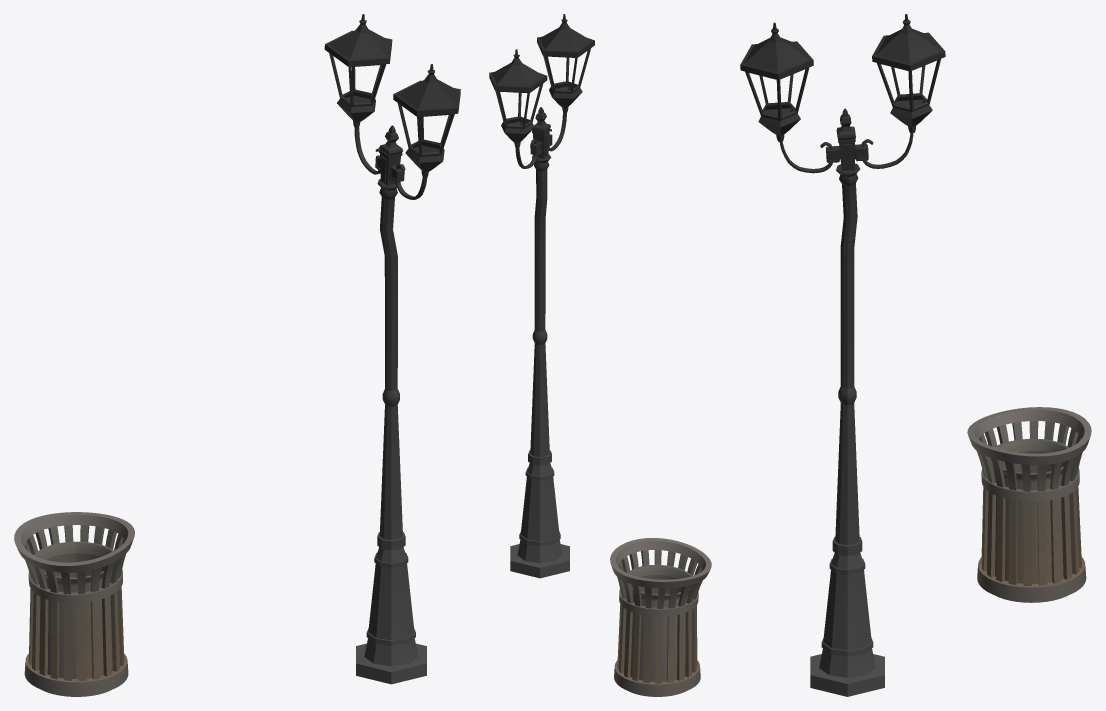
The model's file is Street_props.fbx.
3 renders of one model, left to right at view 1: azimuth 30°, elevation 25°; view 2: azimuth 150°, elevation 25°; view 3: azimuth 270°, elevation 25°, orthographic. The views are drawn at different scales.
Parts seen in each view (by area): view 1: Street_light, Trash_bin; view 2: Street_light, Trash_bin; view 3: Street_light, Trash_bin.
Part boxes in pixels (bbox=[...]): Street_light: bbox=[324, 14, 460, 684]; Trash_bin: bbox=[14, 512, 134, 696]; Street_light: bbox=[489, 14, 594, 578]; Trash_bin: bbox=[610, 538, 711, 696]; Street_light: bbox=[740, 14, 945, 696]; Trash_bin: bbox=[967, 407, 1091, 602].
Size of the model in its own units: 2.91 by 5.66 by 2.63.
